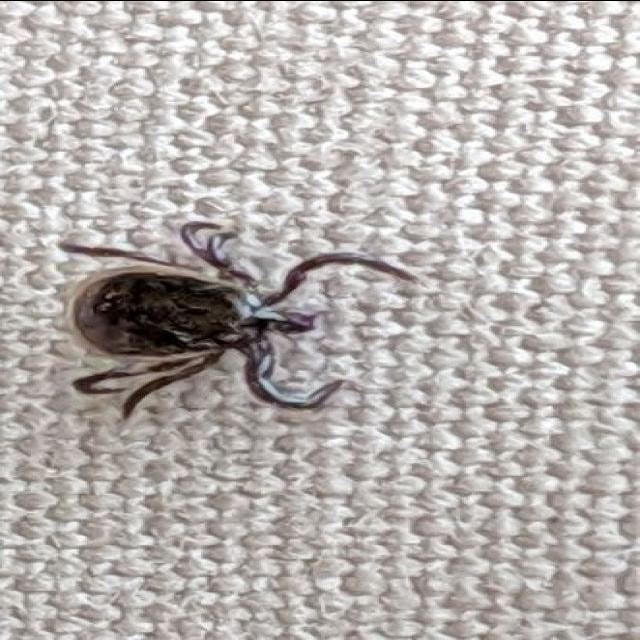Ixodes Ricinus-M: (60, 220, 418, 417)
